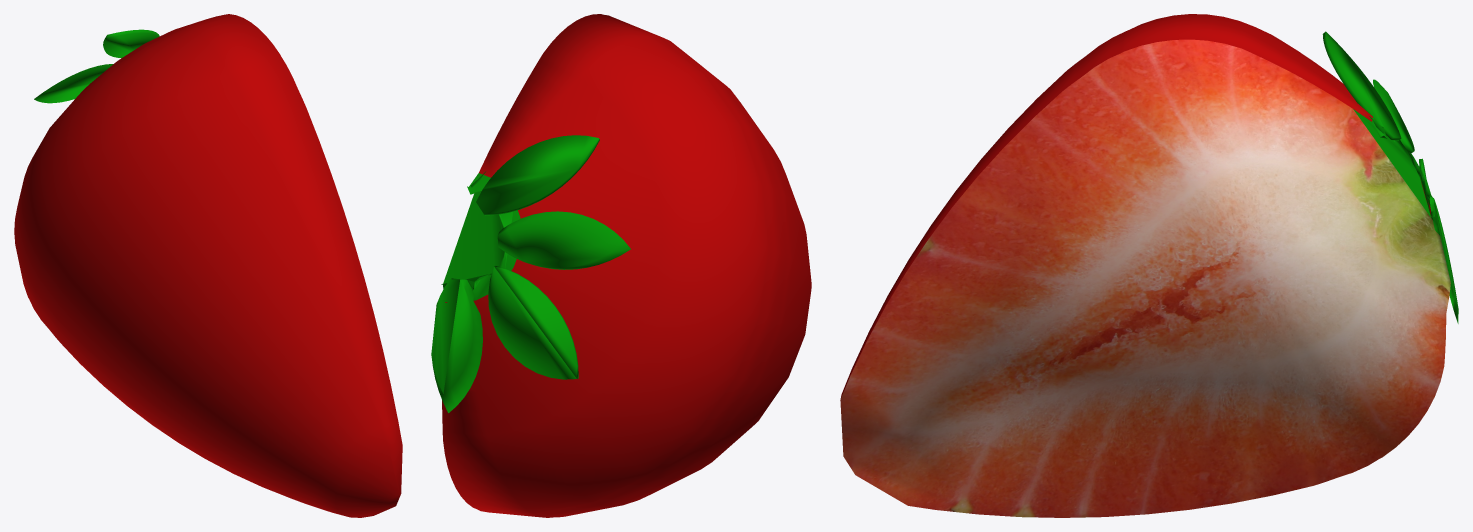
File: StrawberryCut.fbx
3 renders of one model, left to right at view 1: azimuth 30°, elevation 25°; view 2: azimuth 150°, elevation 25°; view 3: azimuth 270°, elevation 25°, orthographic. The views are drawn at different scales.
Parts seen in each view (by area): view 1: Mesh404 Component_6_27 strawberries1 Model; view 2: Mesh404 Component_6_27 strawberries1 Model; view 3: Mesh404 Component_6_27 strawberries1 Model.
Boxes of the visible parts, x1,y1,x2,y2 form: Mesh404 Component_6_27 strawberries1 Model: (14,14,402,517); Mesh404 Component_6_27 strawberries1 Model: (431,14,811,517); Mesh404 Component_6_27 strawberries1 Model: (840,14,1458,517).
Size of the model in its own units: 1.9 by 3.72 by 4.35.
